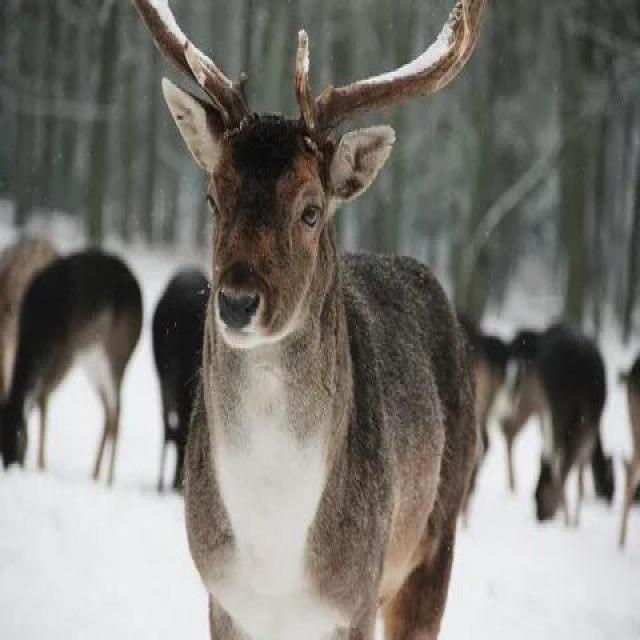deer: (128, 31, 450, 509)
